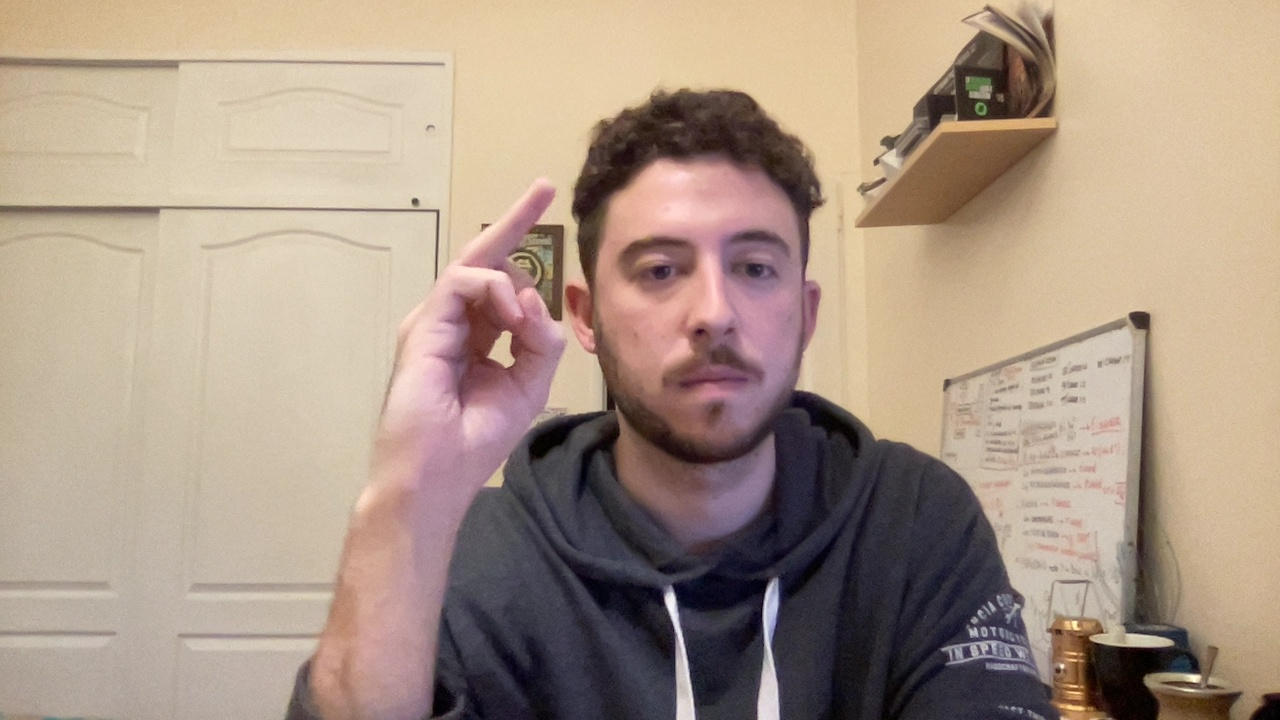anular: (360, 175, 590, 504)
